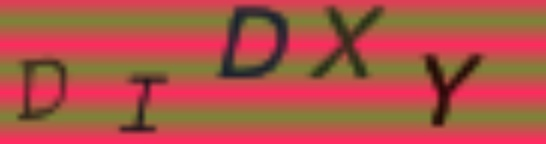D: (213, 4, 296, 82), (10, 55, 73, 126)
I: (114, 71, 171, 135)
X: (308, 1, 392, 79)
Y: (420, 46, 488, 131)
